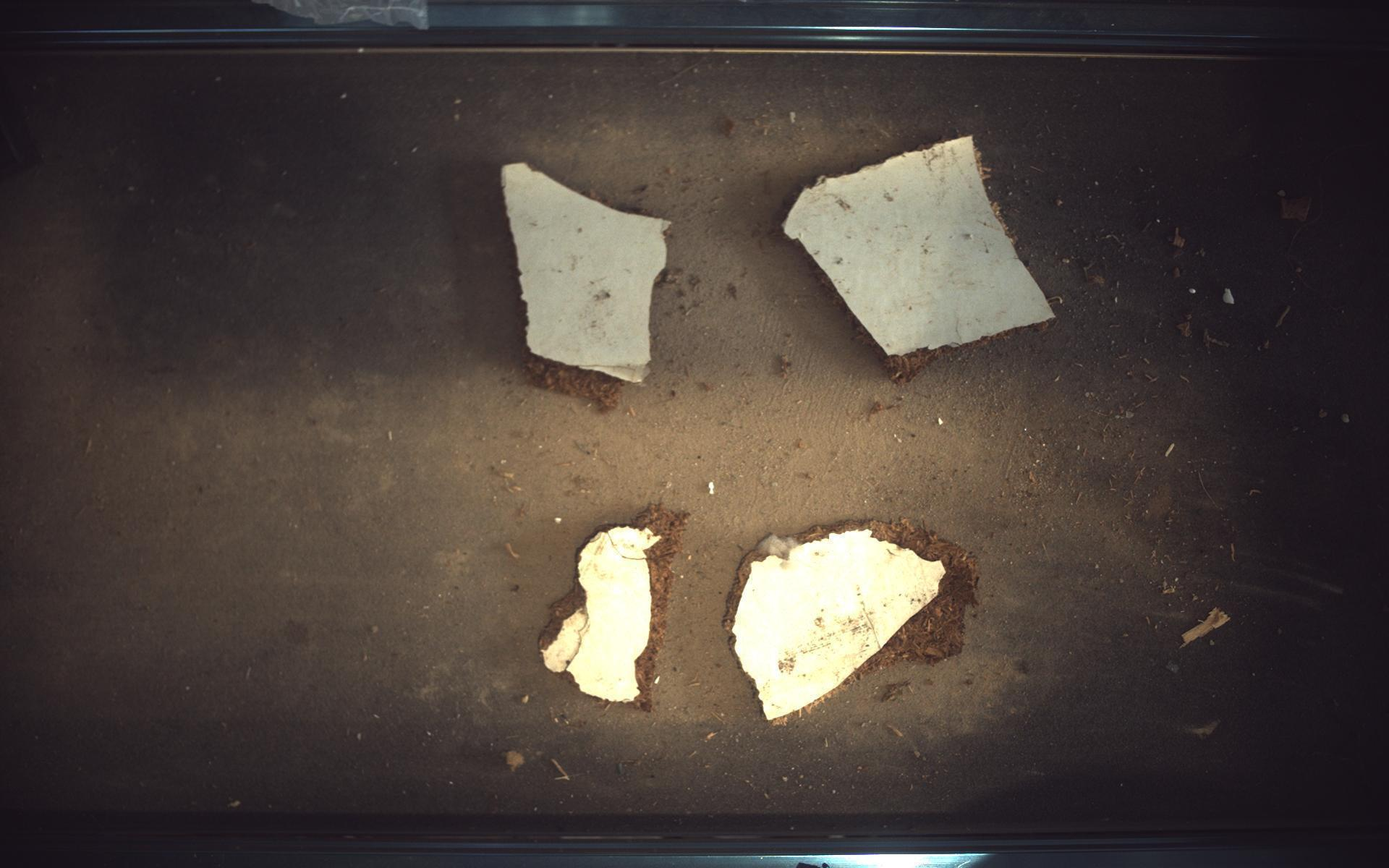wood: (785, 135, 1055, 355), (726, 520, 980, 722), (502, 162, 671, 411), (540, 504, 689, 712)
